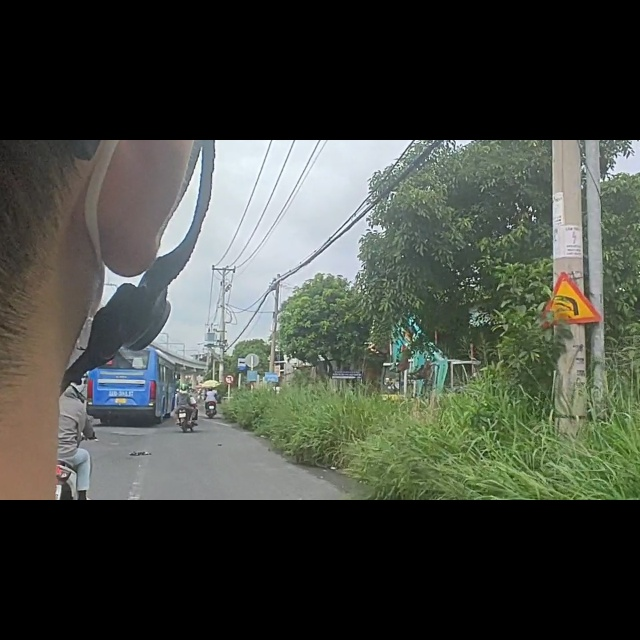bien_cam: (539, 233, 603, 332), (236, 384, 247, 414), (225, 417, 235, 434)
